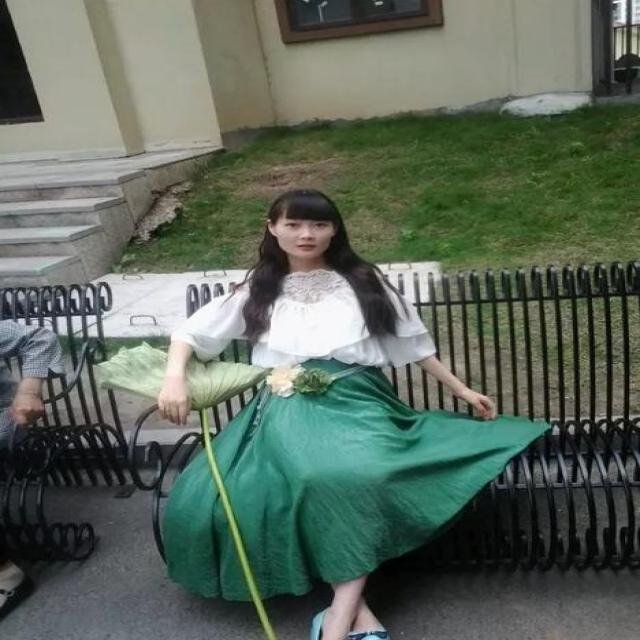short sleeve top: (172, 268, 438, 369)
skirt: (164, 360, 552, 602)
